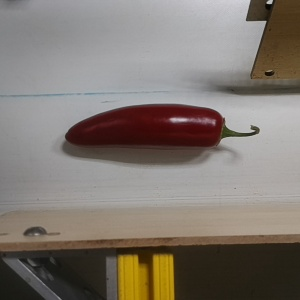Cut Point: (206, 107, 233, 149)
